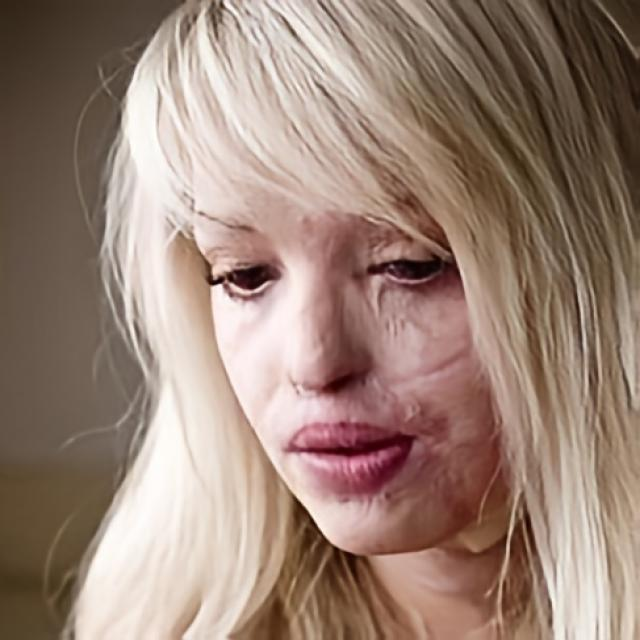sad: (199, 73, 536, 556)
